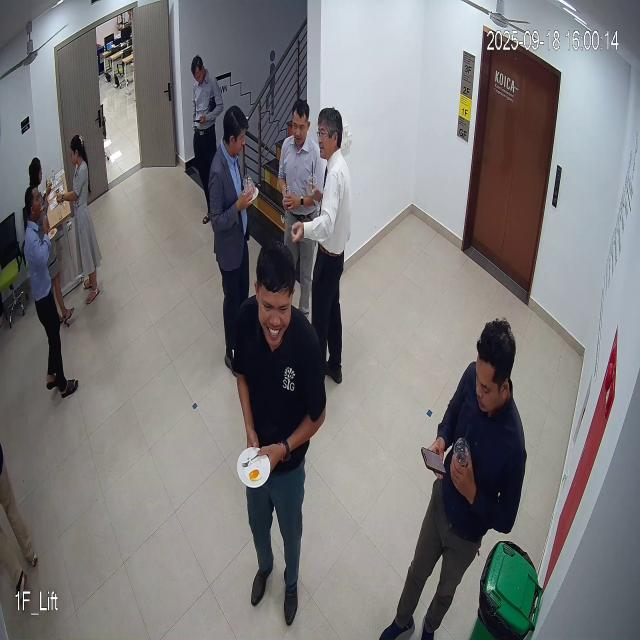face: (254, 239, 297, 349), (316, 107, 347, 163), (289, 100, 311, 147)
